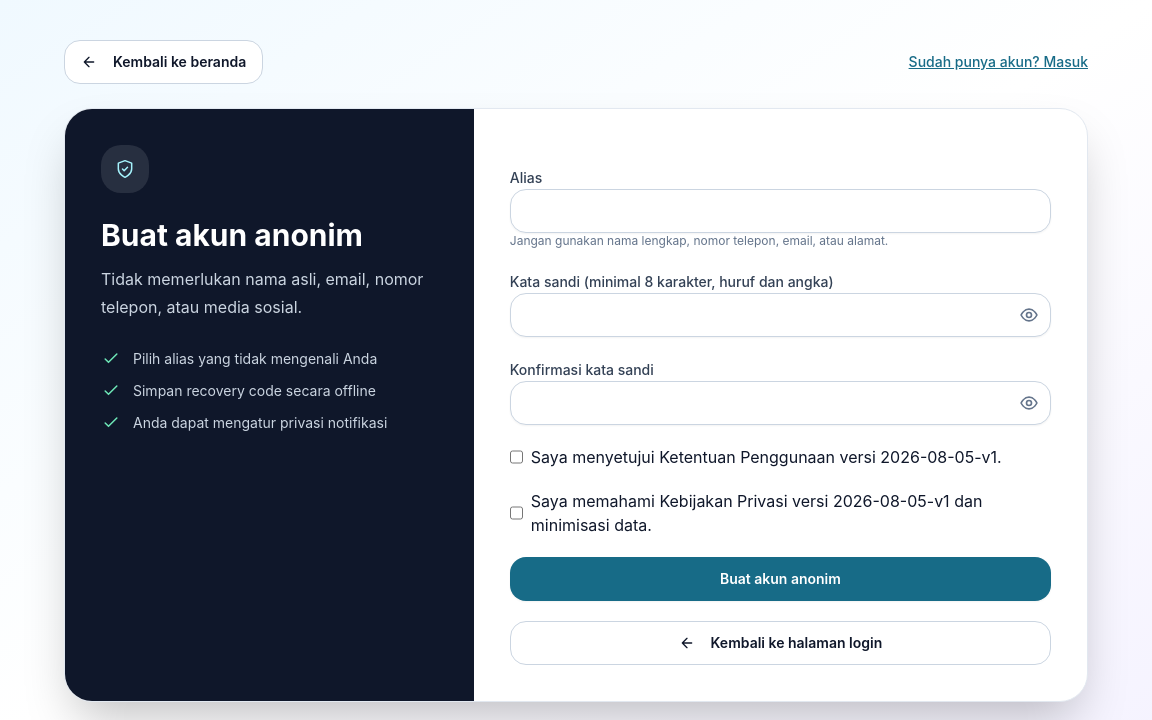
it: registration sends no contact identity and shows credentials once
Type "Bintang" into the field labelled "Alias" at (780, 211), box [510, 189, 1051, 233]
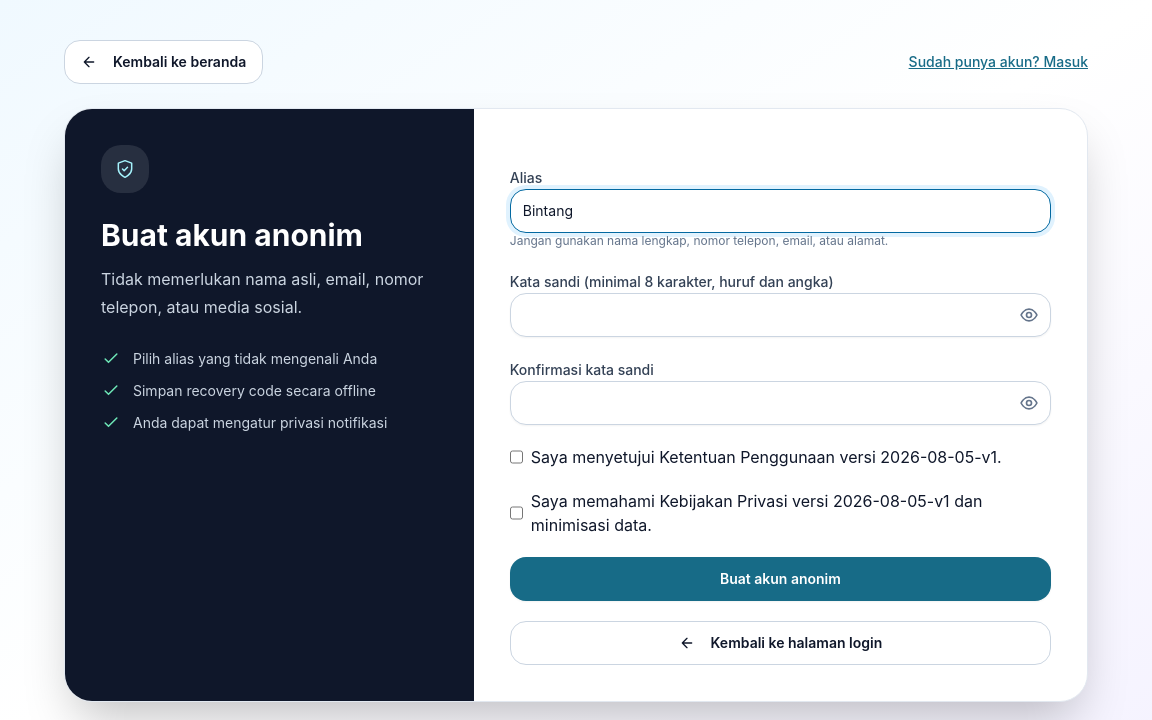
Type "Anonim-aman-2026" into the password field labelled "Kata sandi (minimal 8 karakter, huruf dan angka)" at (780, 315), box [510, 293, 1051, 337]
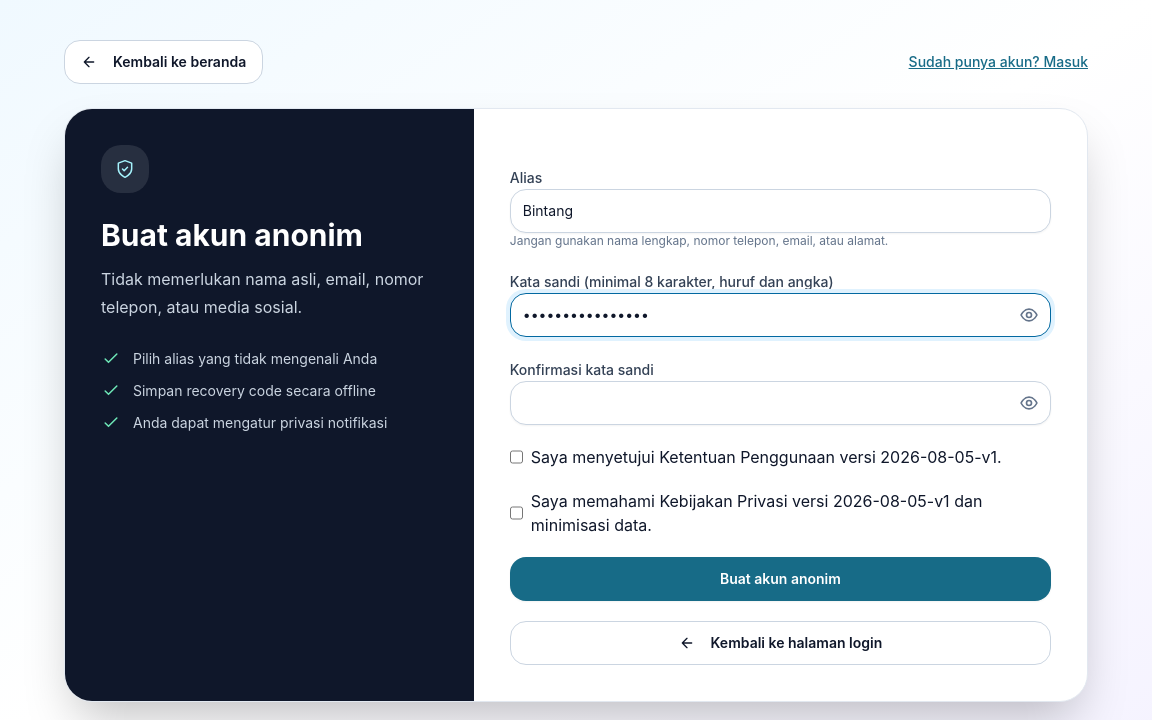
Type "Anonim-aman-2026" into the password field labelled "Konfirmasi kata sandi" at (780, 403), box [510, 381, 1051, 425]
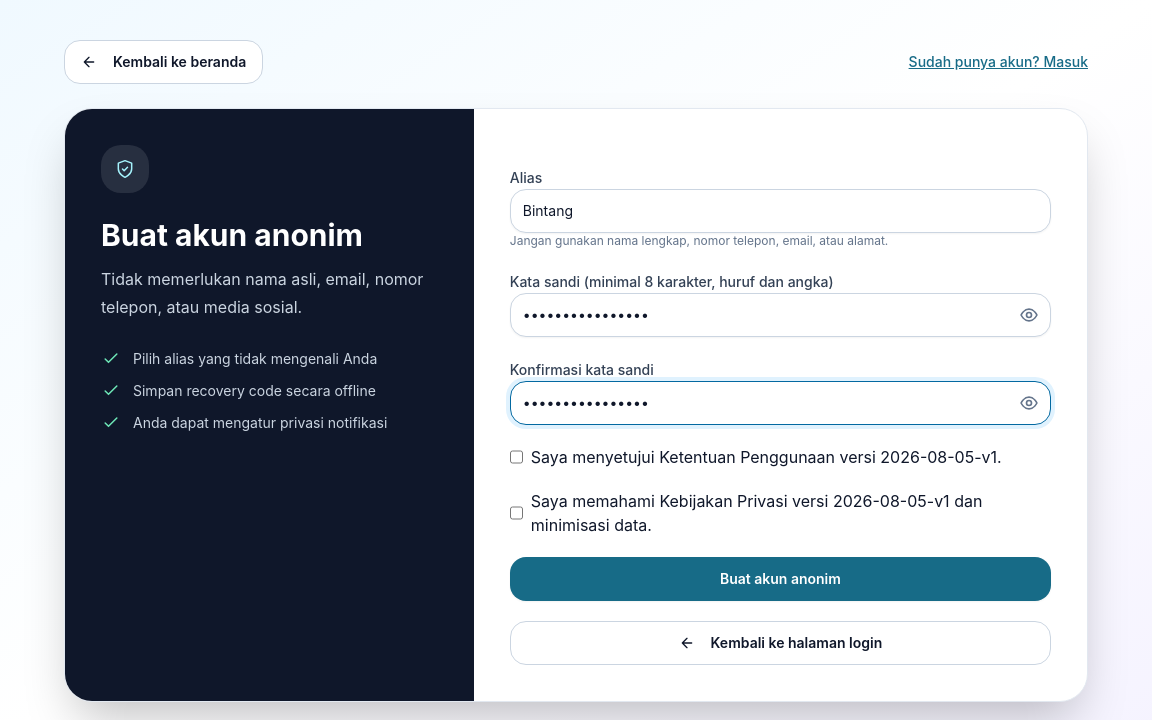
Click the checkbox labelled "Saya menyetujui Ketentuan Penggunaan versi 2026-08-05-v1." at (516, 457), box [510, 445, 523, 469]
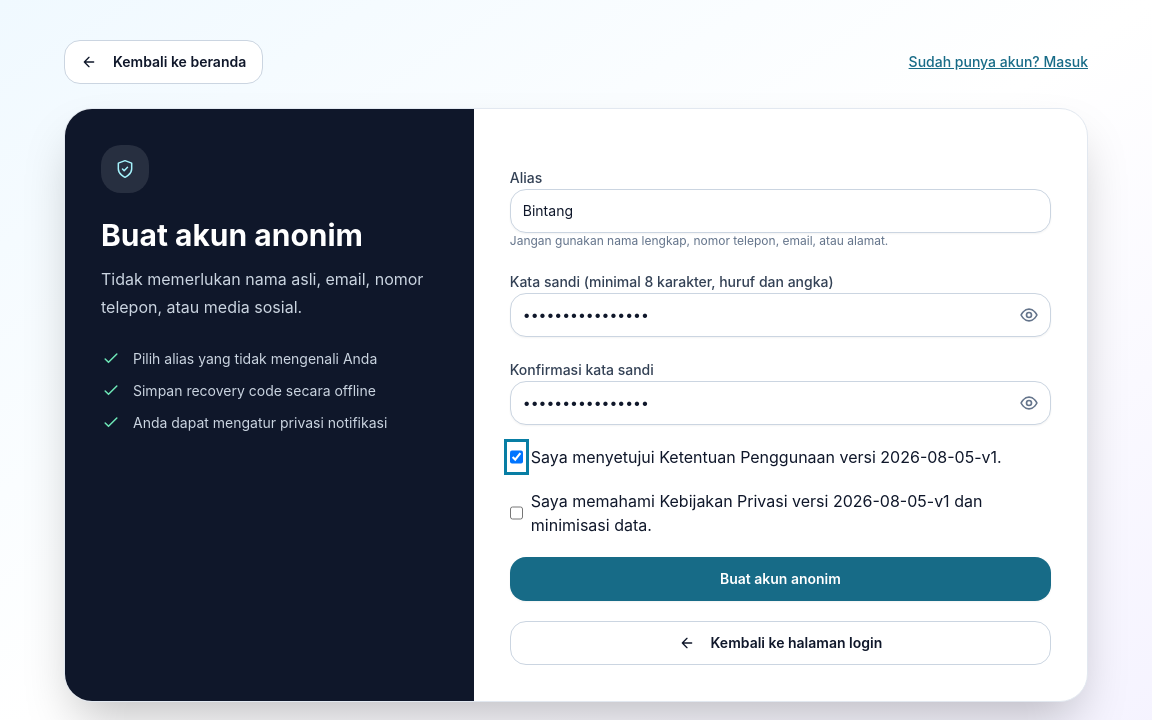
Click the 2nd checkbox at (516, 513), box [510, 489, 523, 537]
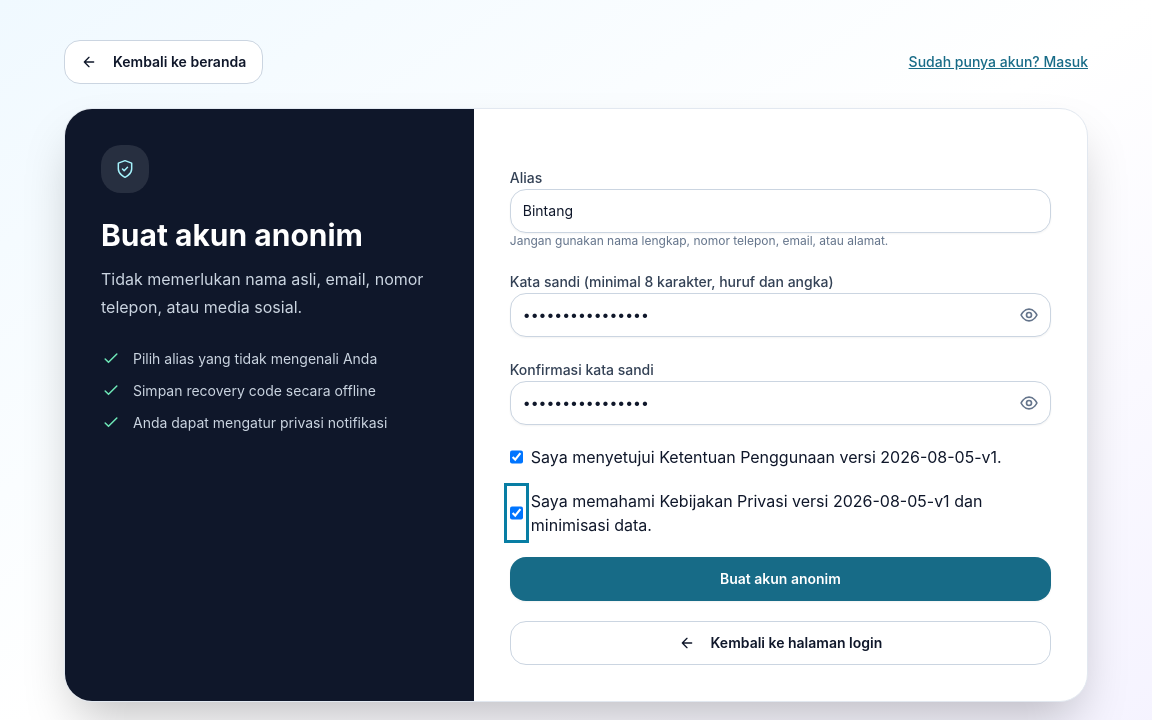
Click the button "Buat akun anonim" at (780, 579), box [510, 557, 1051, 601]
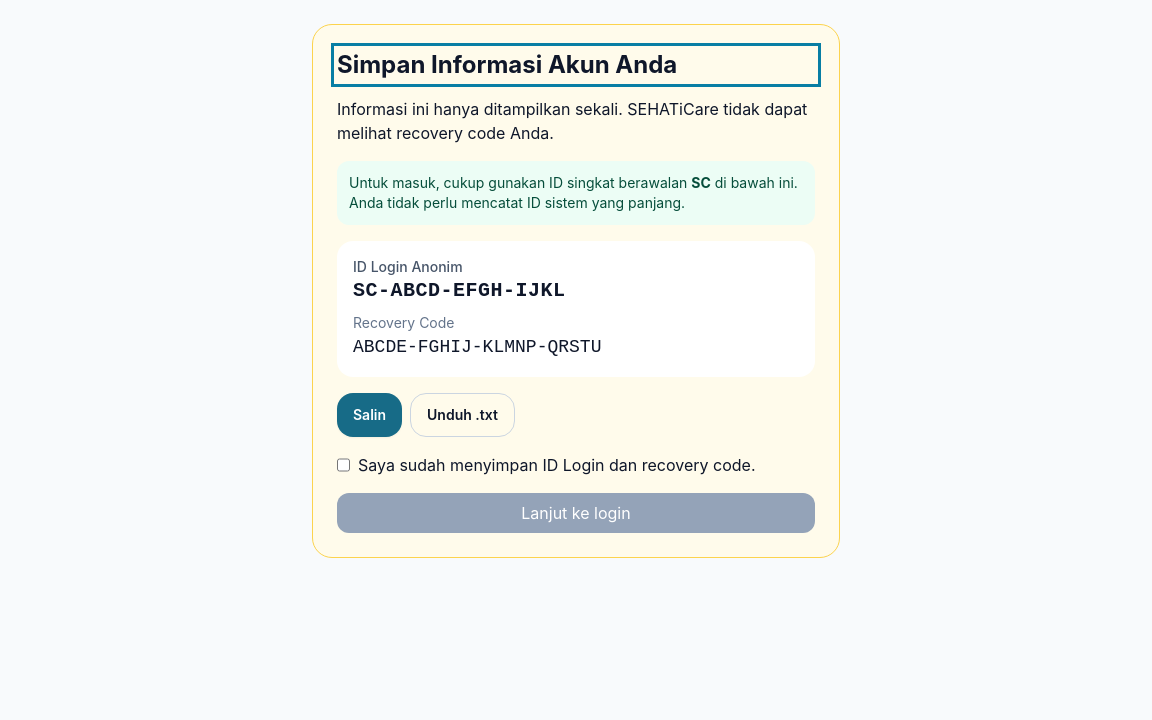
Now the text "SC-ABCD-EFGH-IJKL" is shown, box [353, 279, 566, 302]
Now the text "ABCDE-FGHIJ-KLMNP-QRSTU" is shown, box [353, 337, 602, 357]
Now the text "cukup gunakan ID singkat" is shown, box [349, 174, 691, 191]
